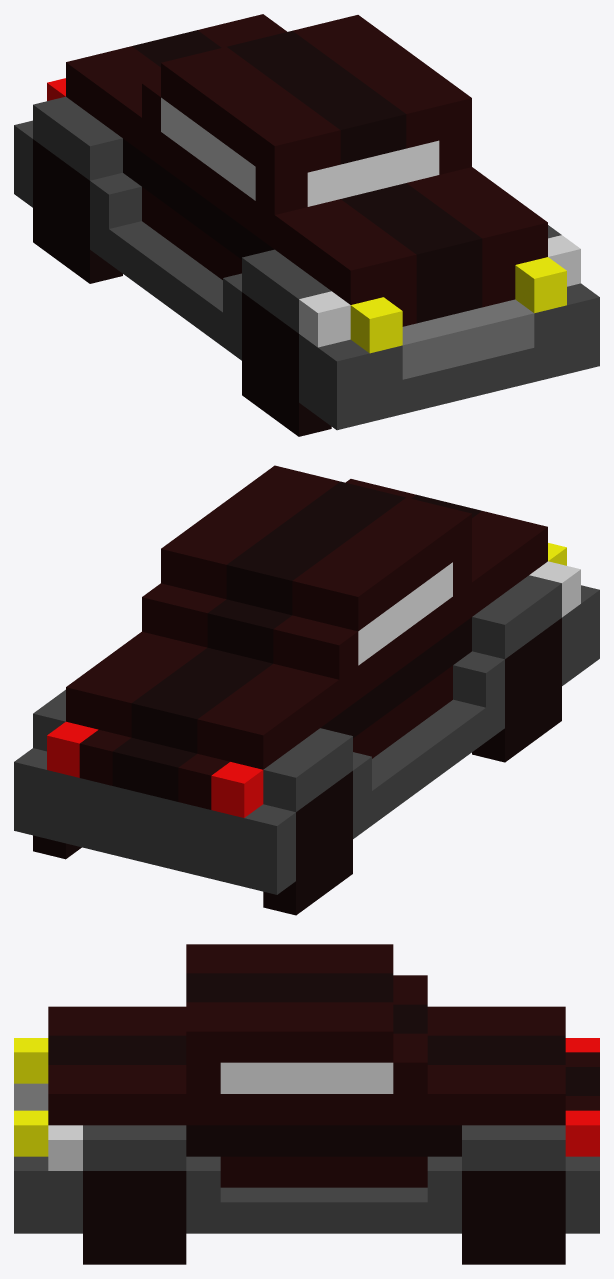
Rendered from CAR2.obj.
The picture shows the model from 3 angles, top to bottom: view 1: azimuth 30°, elevation 25°; view 2: azimuth 150°, elevation 25°; view 3: azimuth 270°, elevation 25°; orthographic projection. The views are drawn at different scales.
Bounding box in the file's own units: 0.8 × 0.7 × 1.7.
1 material, 1 textured.
